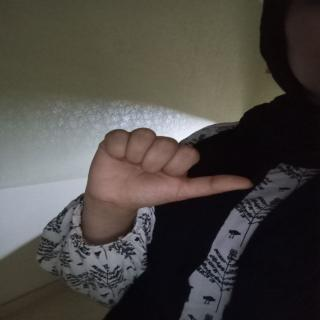DAD: (74, 122, 284, 233)
